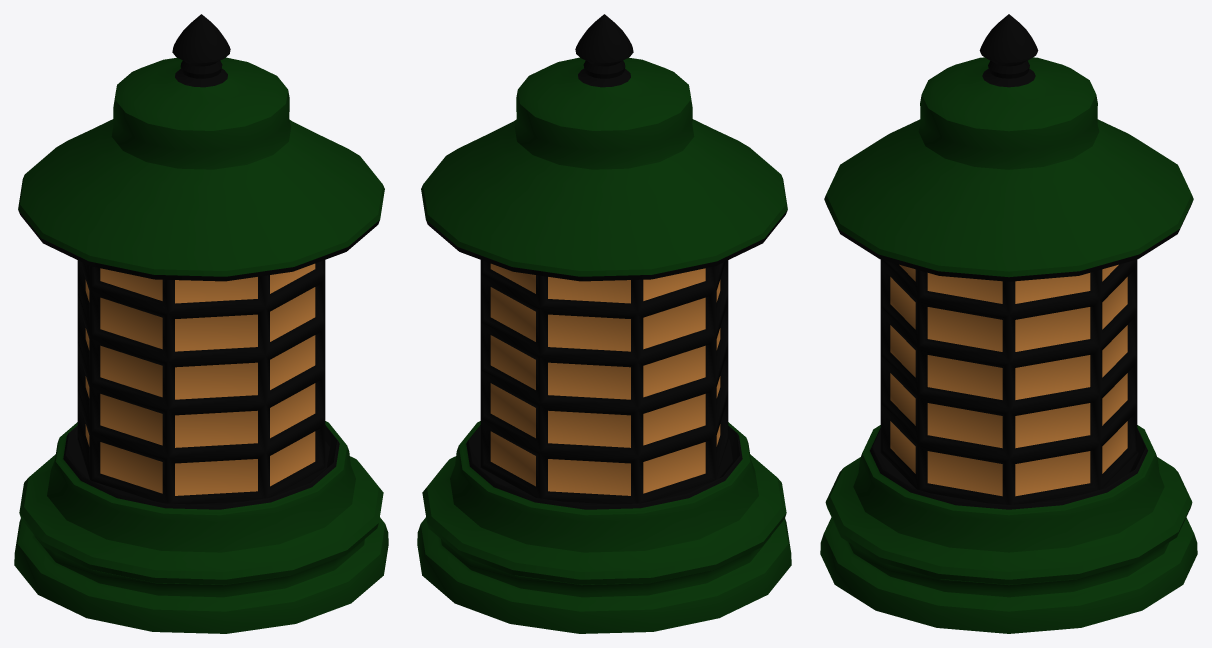
The model's file is old lantern 1.fbx.
The picture shows the model from 3 angles, left to right: view 1: azimuth 30°, elevation 25°; view 2: azimuth 150°, elevation 25°; view 3: azimuth 270°, elevation 25°; orthographic projection.
Parts seen in each view (by area): view 1: Plane; view 2: Plane; view 3: Plane.
Part boxes in pixels (box(x1,y1,x2,y2)): Plane: box(14, 14, 388, 633); Plane: box(417, 14, 791, 633); Plane: box(820, 14, 1197, 633).
Bounding box in the file's own units: 261 × 413 × 261.
